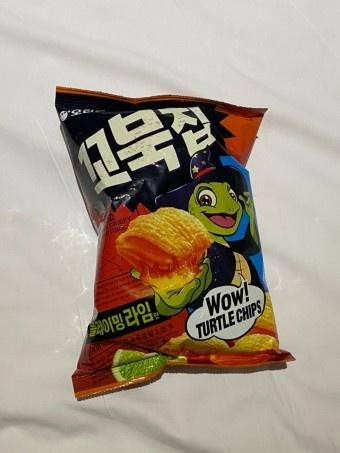snack: (53, 85, 297, 404)
